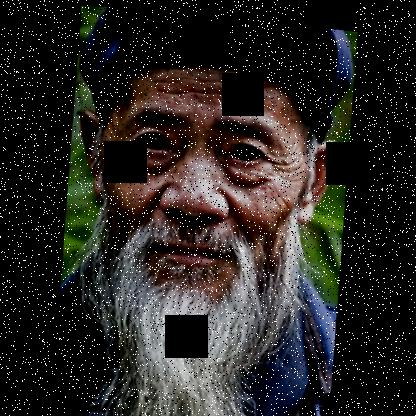Male: (66, 50, 345, 326)
